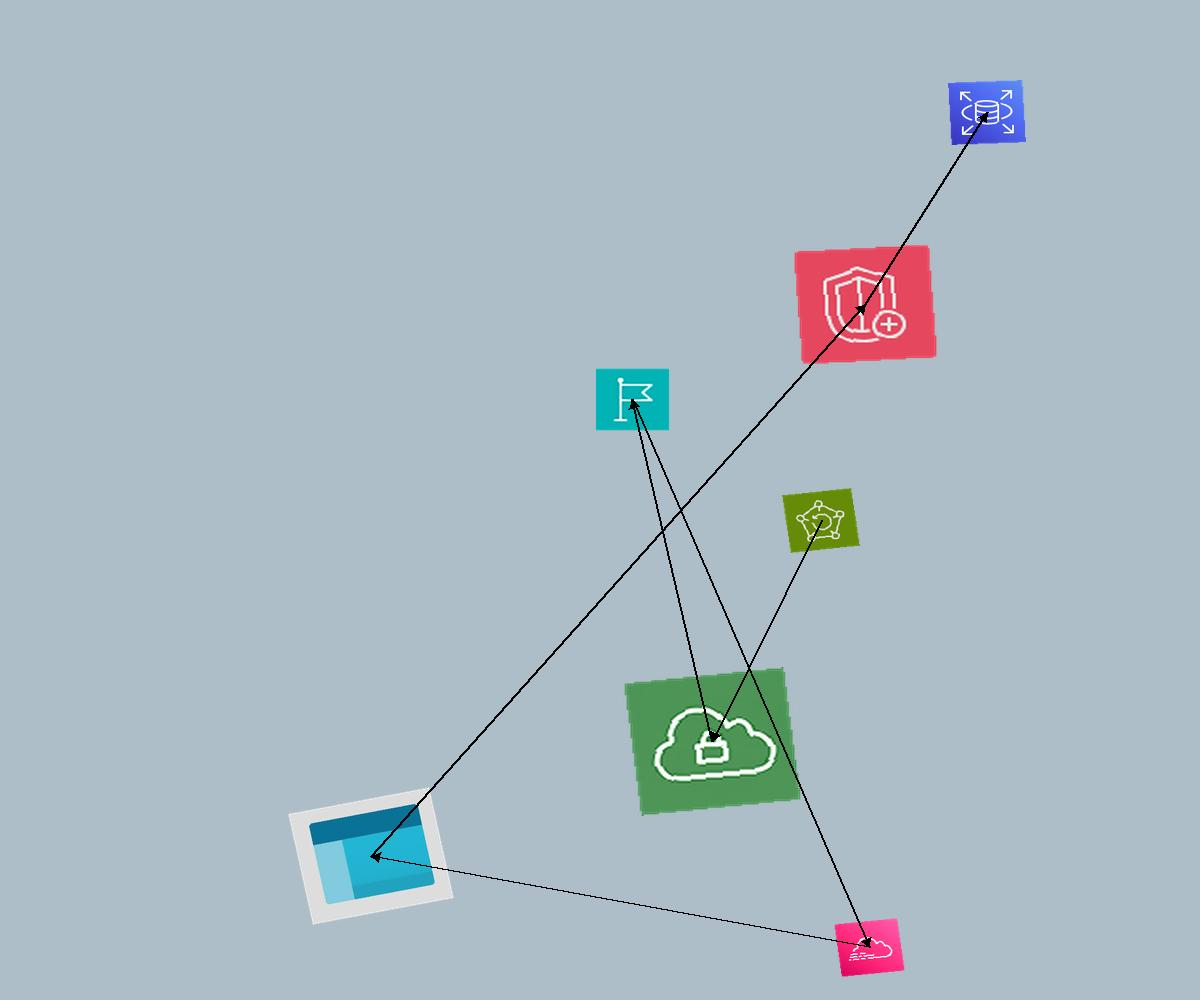AWS-Backup: (782, 488, 860, 553)
AWS-CloudTrail: (834, 918, 905, 977)
AWS-Private_vpc: (623, 667, 802, 816)
AWS-RDS: (948, 80, 1026, 145)
AWS-Region: (595, 368, 670, 431)
AWS-Shield: (793, 244, 938, 365)
Azure_management-portal: (288, 787, 454, 925)
